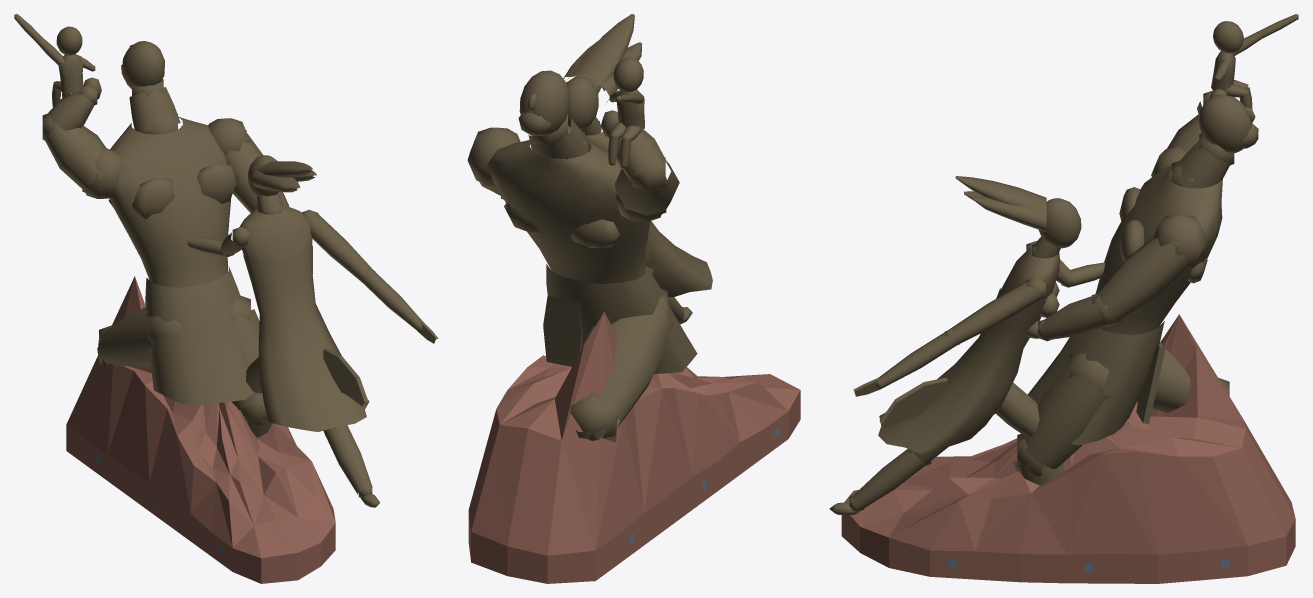
File: dakar-african-renaissance.glb
The picture shows the model from 3 angles, left to right: view 1: azimuth 30°, elevation 25°; view 2: azimuth 150°, elevation 25°; view 3: azimuth 270°, elevation 25°; orthographic projection. The views are drawn at different scales.
Parts seen in each view (by area): view 1: African Renaissance Monument; view 2: African Renaissance Monument; view 3: African Renaissance Monument.
Part boxes in pixels (x1,y1,x2,y2): African Renaissance Monument: (14,14,438,583); African Renaissance Monument: (467,14,800,583); African Renaissance Monument: (829,14,1298,583).
Size of the model in its own units: 27.7 by 50.53 by 44.34.
